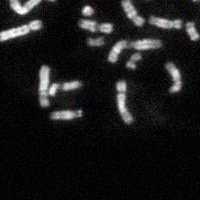chromosome: (108, 39, 161, 62), (0, 19, 43, 40), (115, 81, 132, 125), (49, 81, 85, 96), (122, 0, 143, 25), (79, 18, 112, 33), (6, 0, 41, 14), (165, 63, 180, 93), (148, 15, 181, 28), (39, 66, 49, 107), (49, 110, 82, 120), (186, 21, 199, 41), (86, 35, 106, 47), (126, 54, 139, 70), (81, 6, 92, 16), (190, 0, 200, 2)
